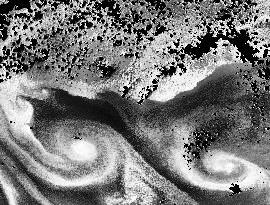CE: (43, 111, 119, 181), (197, 141, 259, 194)
